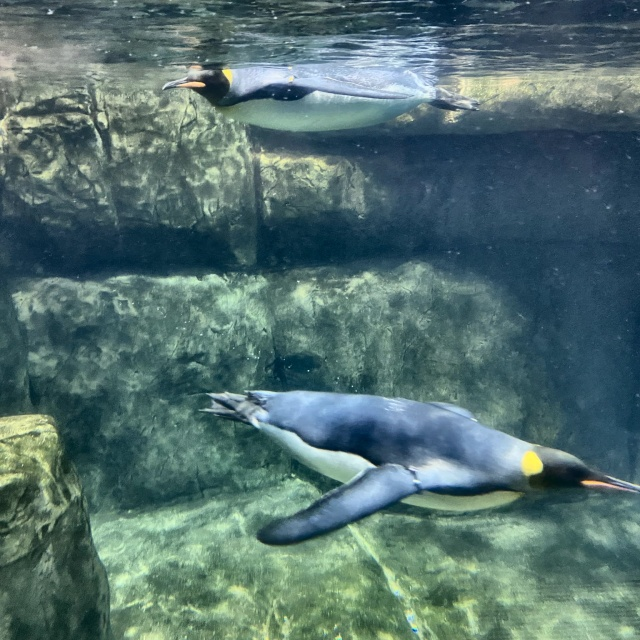penguin: (198, 389, 638, 545), (162, 64, 479, 133)
